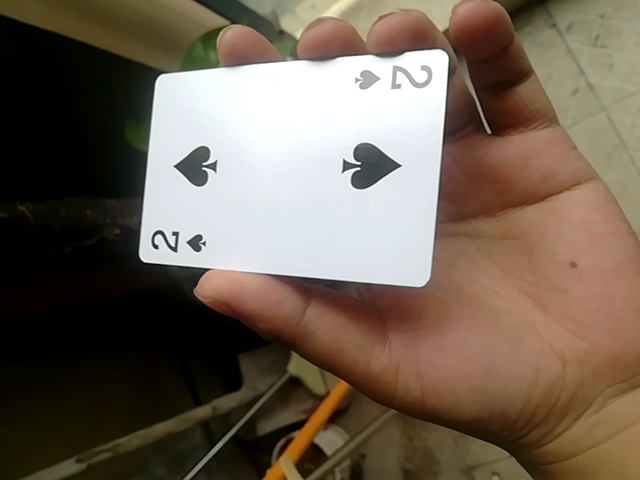ht 2: (133, 44, 448, 294)
